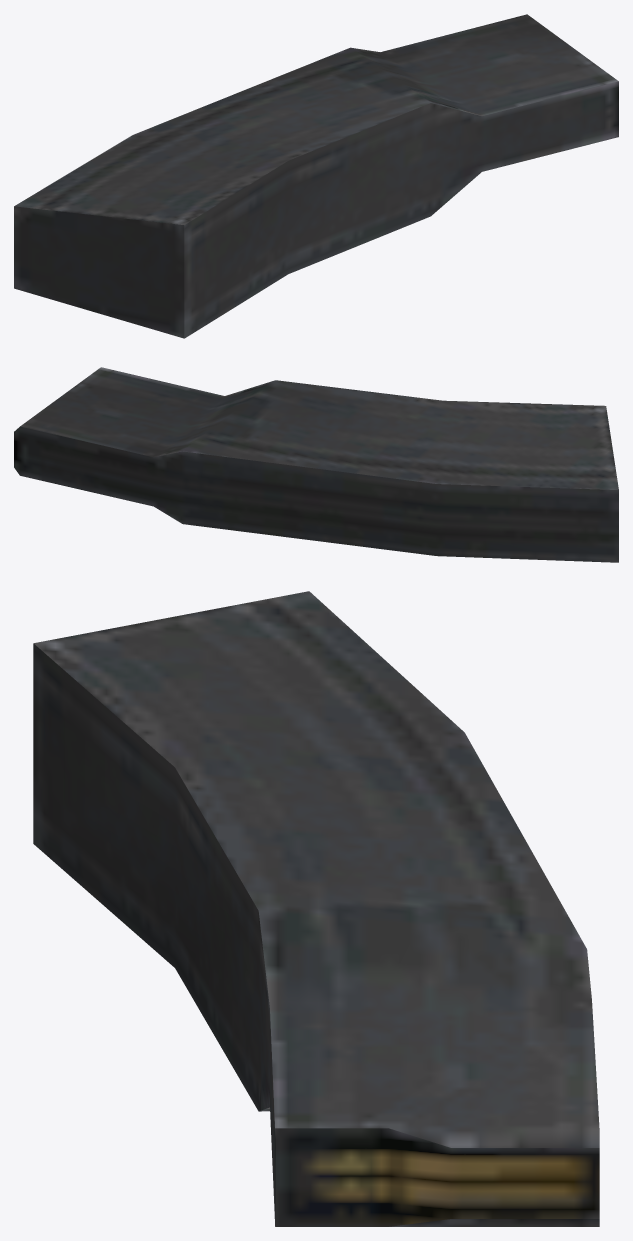
Rendered from Pickup_WeaponDj01.glb.
3 renders of one model, top to bottom at view 1: azimuth 30°, elevation 25°; view 2: azimuth 150°, elevation 25°; view 3: azimuth 270°, elevation 25°, orthographic. The views are drawn at different scales.
Parts seen in each view (by area): view 1: pk_weapon_dj01; view 2: pk_weapon_dj01; view 3: pk_weapon_dj01.
Part boxes in pixels (x1,y1,x2,y2): pk_weapon_dj01: (14,14,618,338); pk_weapon_dj01: (14,367,618,562); pk_weapon_dj01: (33,591,599,1226).
Bounding box in the file's own units: 0.7227 × 0.1302 × 0.3327.
Materials: 1 (1 with a texture image).
